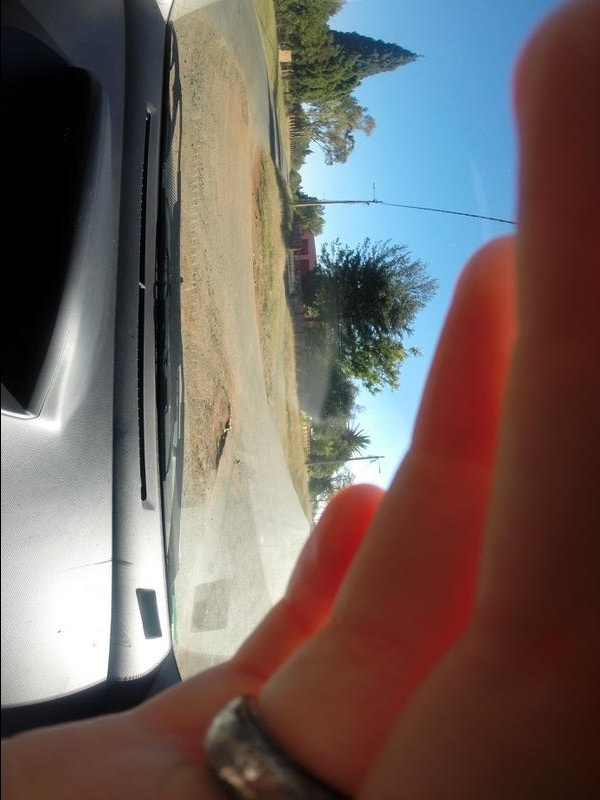pothole: (195, 369, 239, 478)
